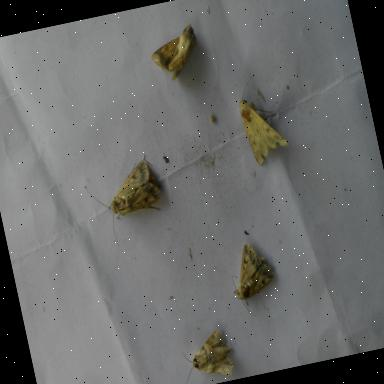abw: (78, 152, 175, 256), (228, 64, 294, 171), (221, 234, 285, 324), (142, 18, 210, 92), (171, 320, 242, 384)
